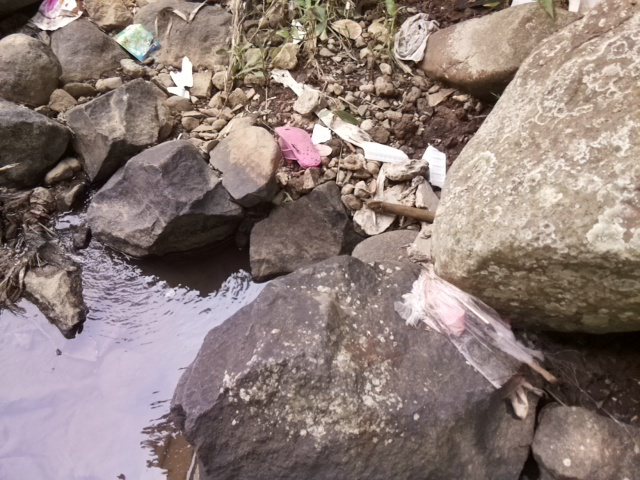Sampah_Plastik: (403, 265, 541, 388), (109, 21, 160, 61), (274, 127, 323, 168), (28, 1, 82, 31)
Sampah_Styrofoam: (164, 56, 195, 98), (421, 142, 448, 189), (358, 141, 411, 162)
